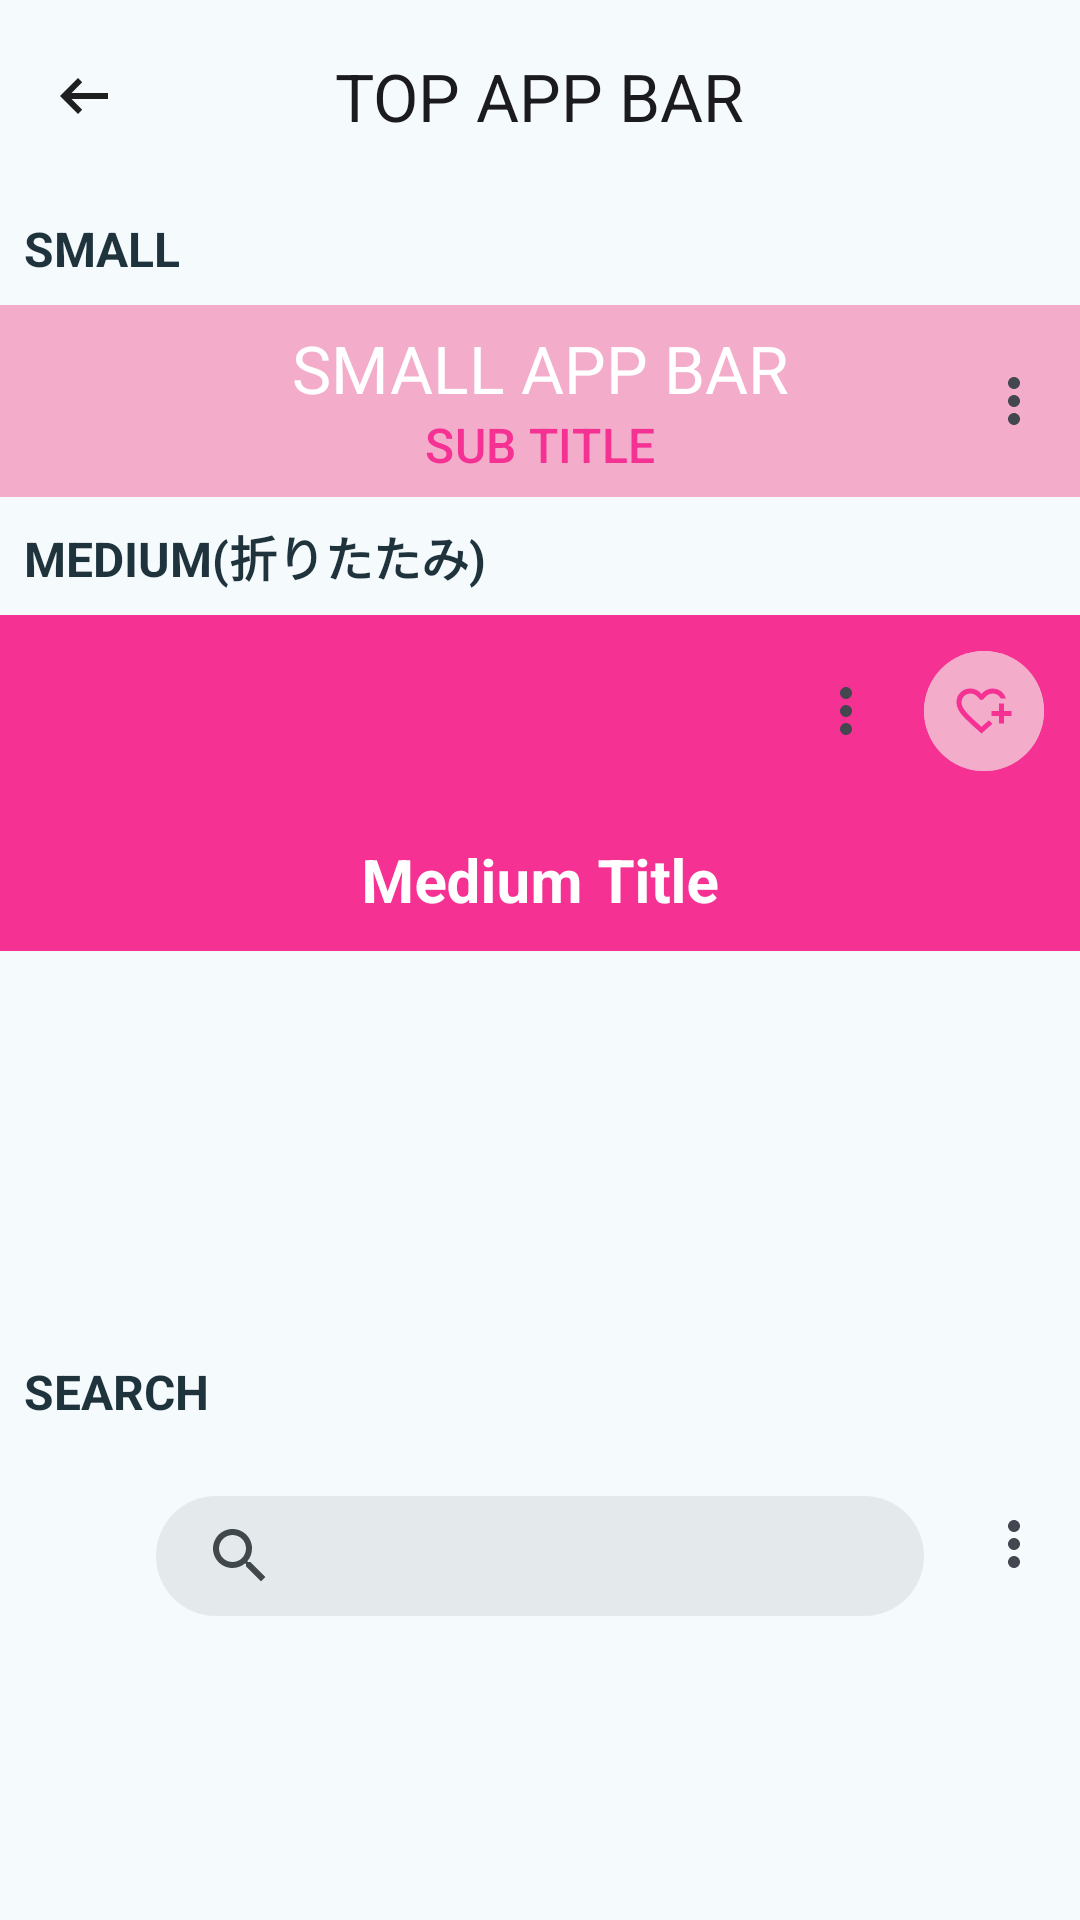

Screen size 1080 x 1920. Icon name, then its box in pixels as [x1=x1, y1=y1, x2=x2, y2=y2]:
heart plus: [x1=924, y1=651, x2=1044, y2=771]
